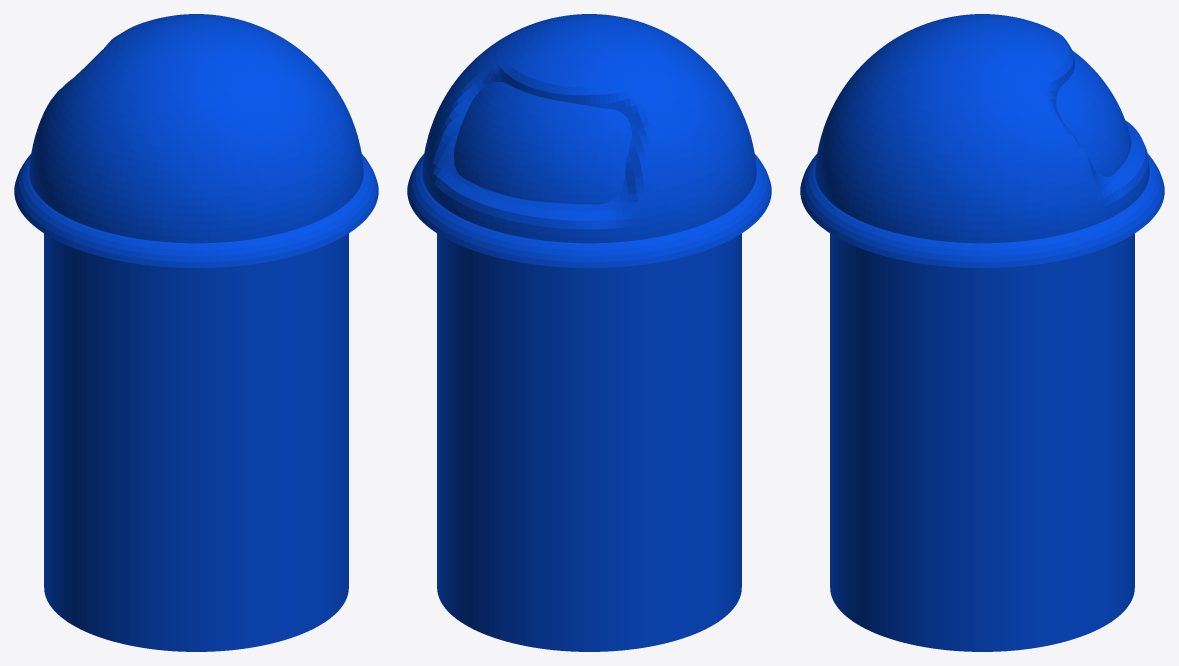
Rendered from grafkom.gltf.
The picture shows the model from 3 angles, left to right: view 1: azimuth 30°, elevation 25°; view 2: azimuth 150°, elevation 25°; view 3: azimuth 270°, elevation 25°; orthographic projection.
Parts seen in each view (by area): view 1: Cylinder, Lid, Torus thing; view 2: Cylinder, Lid, Torus thing; view 3: Cylinder, Lid, Torus thing.
Boxes of the visible parts, bbox=[...] form: Cylinder: bbox=[44, 233, 348, 651]; Lid: bbox=[29, 14, 363, 243]; Torus thing: bbox=[14, 154, 378, 267]; Cylinder: bbox=[437, 81, 741, 651]; Lid: bbox=[422, 14, 756, 243]; Torus thing: bbox=[407, 154, 771, 267]; Cylinder: bbox=[830, 50, 1134, 651]; Lid: bbox=[815, 14, 1149, 243]; Torus thing: bbox=[800, 154, 1164, 267].
Bounding box in the file's own units: 1.2 × 2.02 × 1.2.
4 materials, 2 textured.
